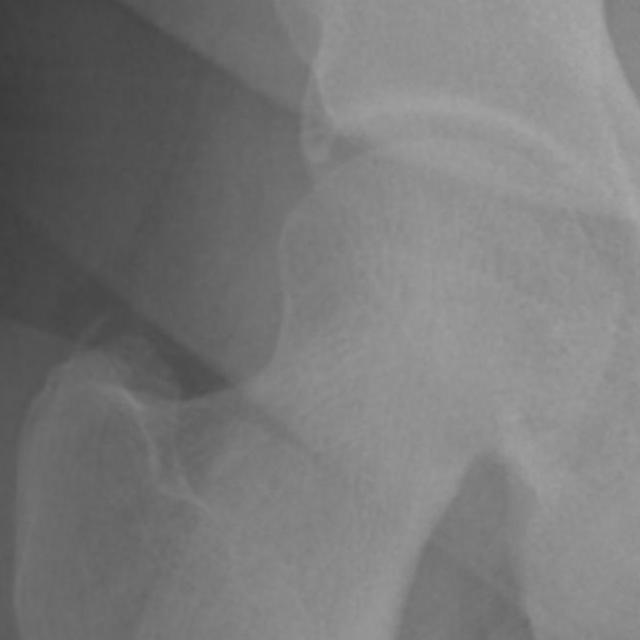Fitted_femural_head: (344, 139, 432, 344)
